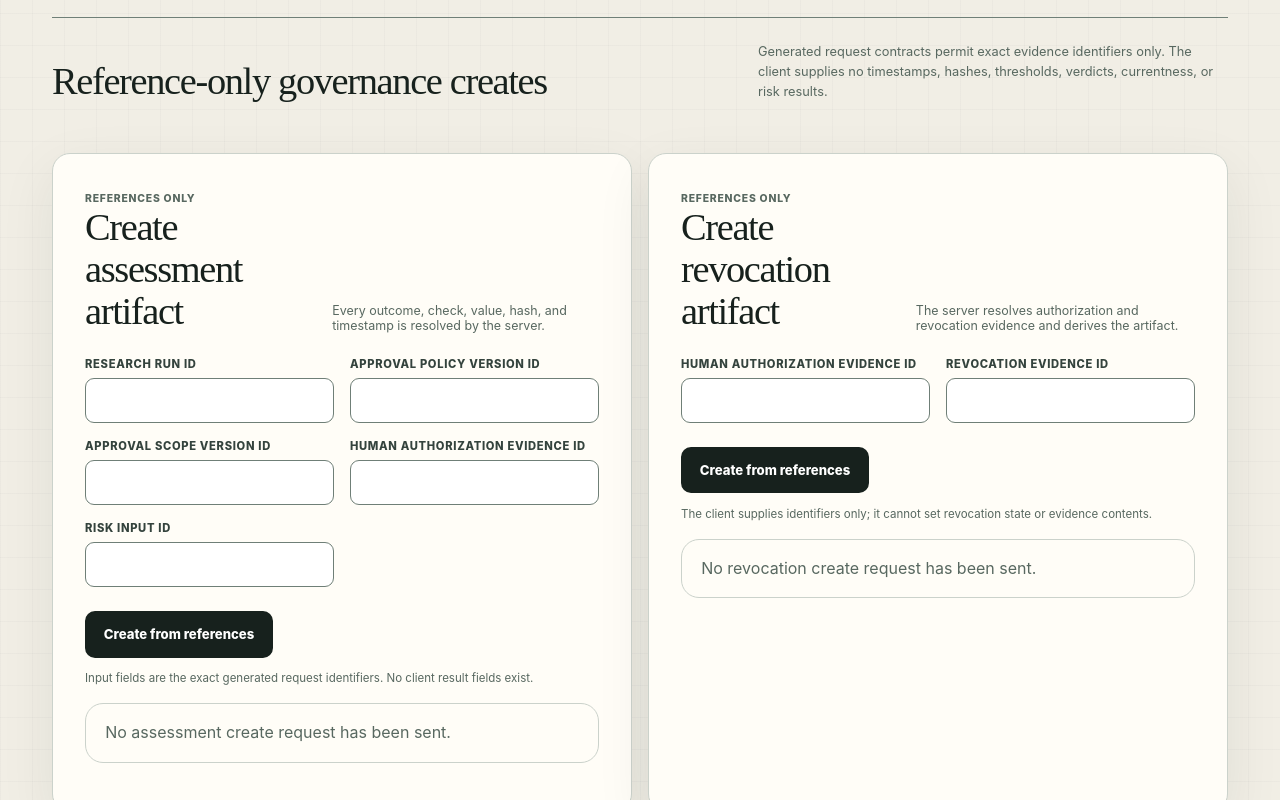
Test: risk and compliance workspace › announces conflict revocation-create failures without inventing a result
The image size is (1280, 800).
(page scrolled)
Type "50000000-0000-4000-8000-000000000002" into the field labelled "Human authorization evidence ID" below "Create revocation artifact" at x=806, y=400, box [681,378,930,423]
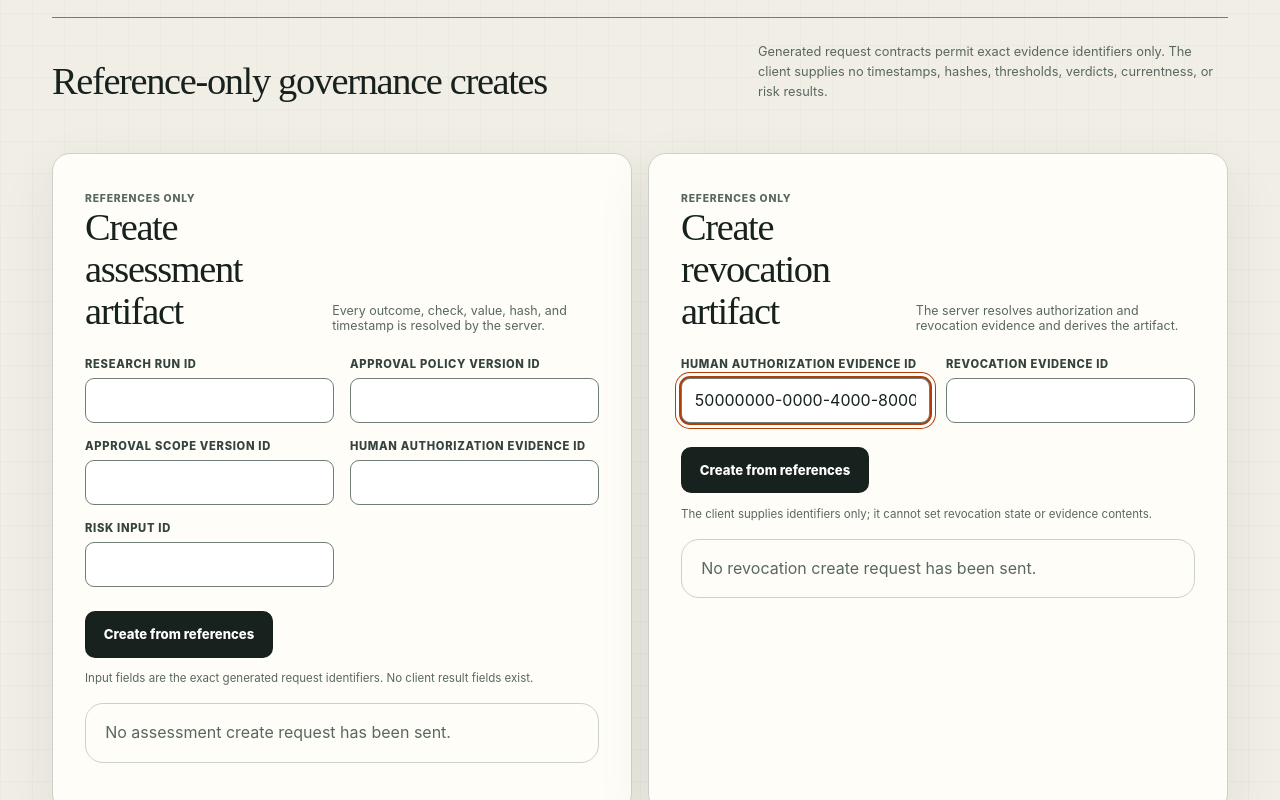
Type "80000000-0000-4000-8000-000000000001" into the field labelled "Revocation evidence ID" at x=1070, y=400, box [946,378,1195,423]
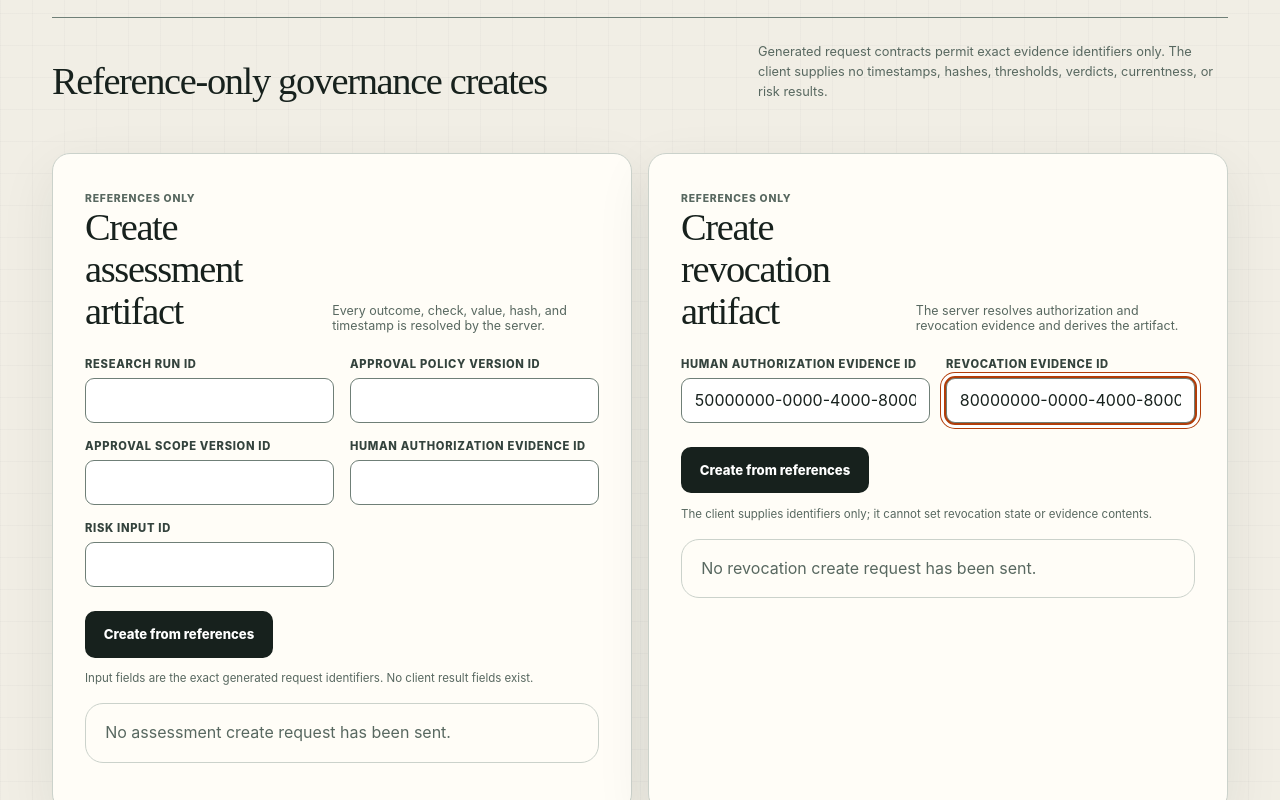
Click the button "Create from references" below "Create revocation artifact" at x=775, y=470, box [681,447,869,493]
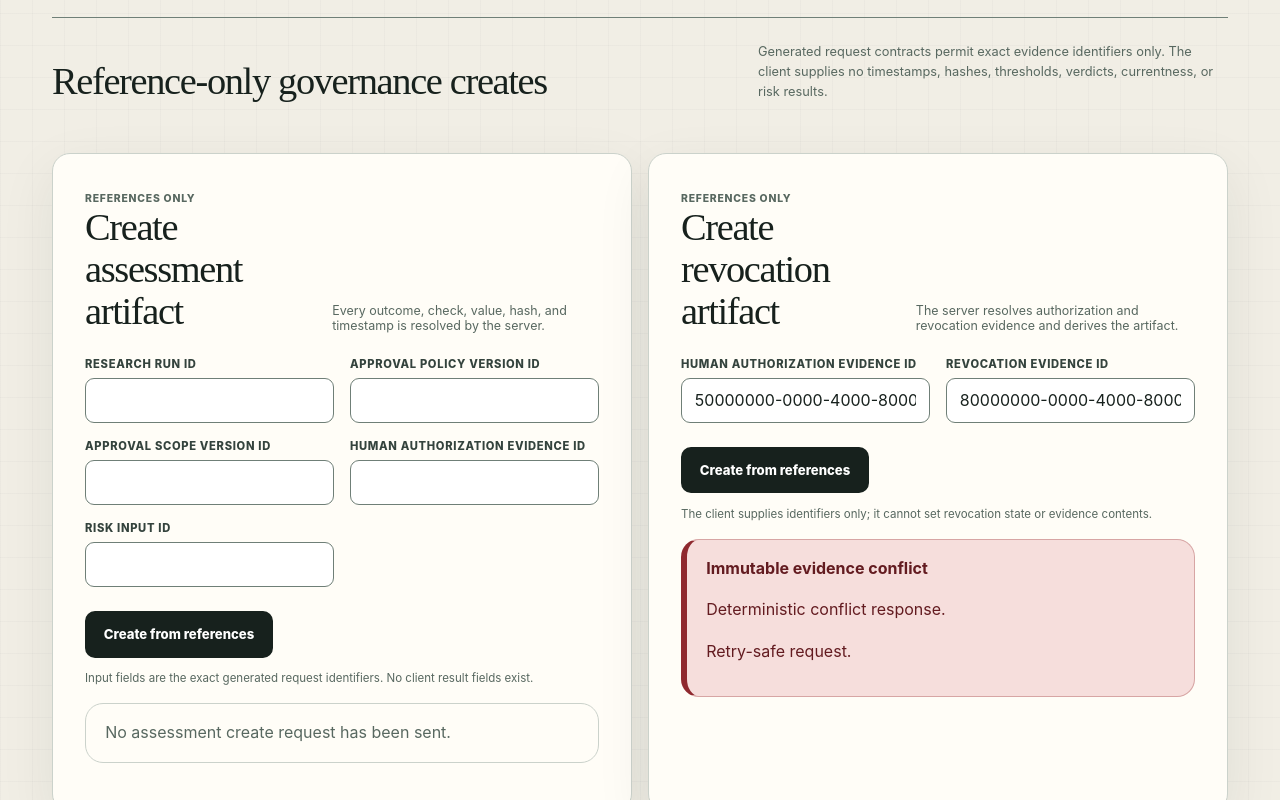
Expected: the message that starts with "Immutable evidence conflict" does not show "Artifact SHA-256", [681,539,1195,697]
Expected: the message that starts with "Immutable evidence conflict" is shown, [706,558,928,578]
